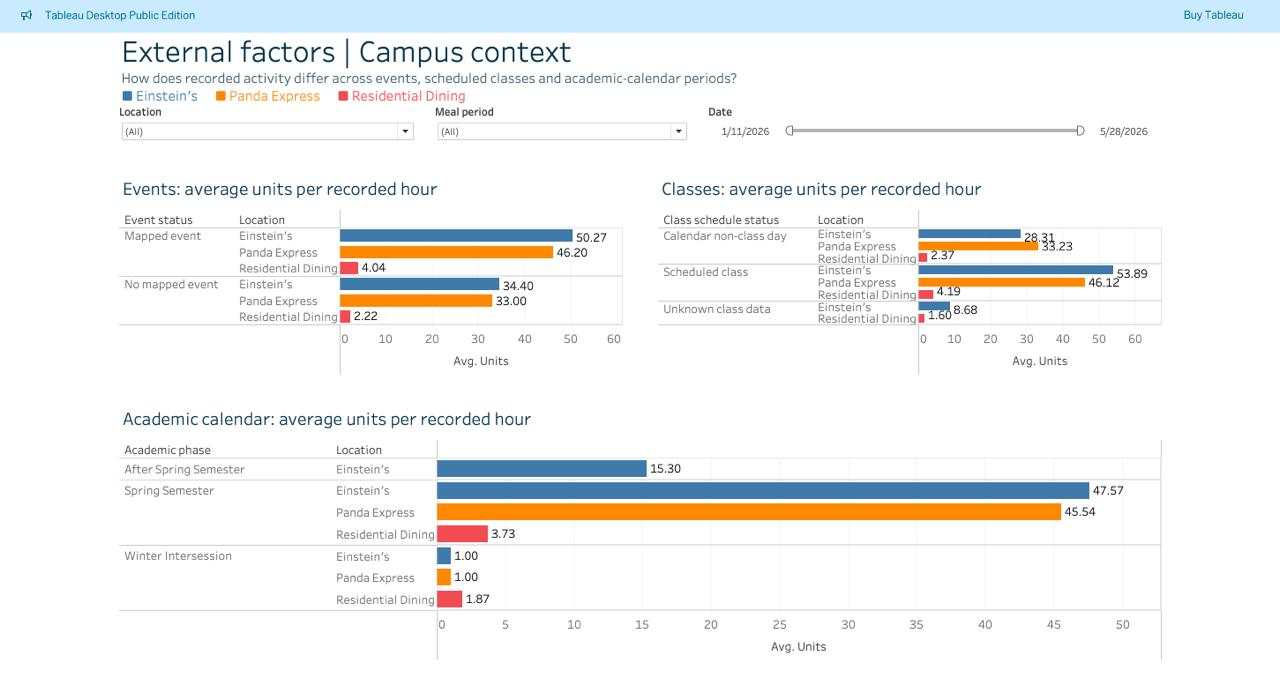

Layout of this report page (visuals, bound fields, positions):
{"tool":"tableau","page":{"name":"04 Campus context","canvas":[1200,780],"ordinal":3},"visuals":[{"type":"text","box":[24.4,9.2,1151.3,40.4]},{"type":"text","box":[24.4,49.6,1151.3,19.3]},{"type":"text","box":[24.4,68.8,1151.3,19.3]},{"type":"filter","title":"04 Events","param":"[federated.servesmart_hourly].[none:Location:nk]","box":[24.4,89,328.1,53.2]},{"type":"filter","title":"04 Events","param":"[federated.servesmart_hourly].[none:DayPart:nk]","box":[373.1,89,281.3,53.2]},{"type":"filter","title":"04 Events","param":"[federated.servesmart_hourly].[none:Date:qk]","box":[675,89,500.6,53.2]},{"type":"worksheet","title":"04 Events","mark":"Bar","rows":["EventCondition","Location"],"cols":["Units"],"box":[16.9,157.8,571.9,241.3]},{"type":"worksheet","title":"04 Classes","mark":"Bar","rows":["ClassCondition","Location"],"cols":["Units"],"box":[611.3,157.8,571.9,241.3]},{"type":"worksheet","title":"04 Academic phase","mark":"Bar","rows":["Academic_Phase","Location"],"cols":["Units"],"box":[16.9,413.9,1166.3,302.8]},{"type":"text","box":[24.4,727.7,1151.3,45]}]}

Visuals, with their boxes on the page's 1200x780 design canvas (x1, y1, x2, y2). These are canvas units, not pixel positions in the 1280x678 screenshot, which may show the page scaled, cropped or inside an application window:
text: <region>24, 9, 1176, 50</region>
text: <region>24, 50, 1176, 69</region>
text: <region>24, 69, 1176, 88</region>
"04 Events" filter: <region>24, 89, 352, 142</region>
"04 Events" filter: <region>373, 89, 654, 142</region>
"04 Events" filter: <region>675, 89, 1176, 142</region>
"04 Events" worksheet (Bar marks): <region>17, 158, 589, 399</region>
"04 Classes" worksheet (Bar marks): <region>611, 158, 1183, 399</region>
"04 Academic phase" worksheet (Bar marks): <region>17, 414, 1183, 717</region>
text: <region>24, 728, 1176, 773</region>
